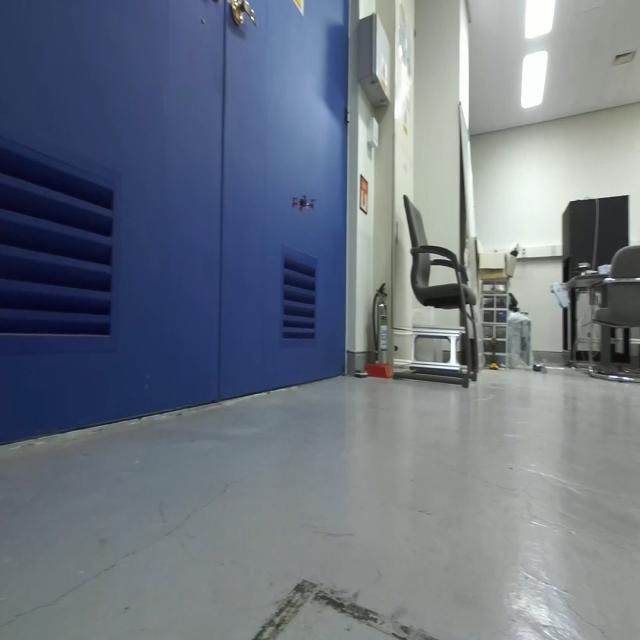crazyflie: (288, 185, 320, 222)
